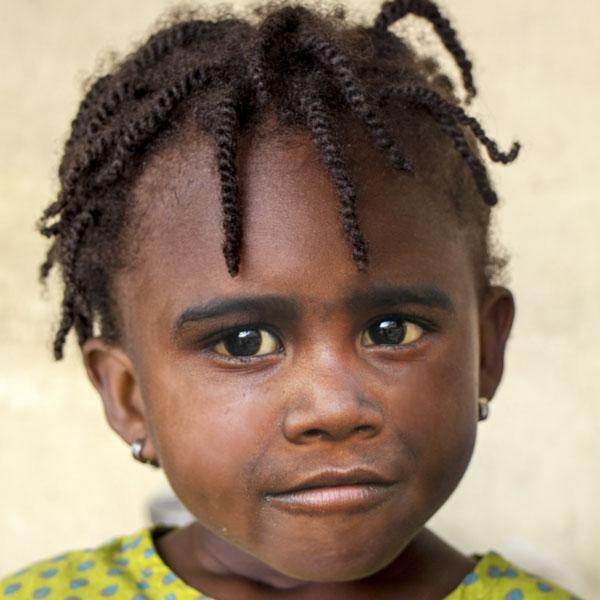Eyes: (176, 310, 301, 378), (351, 302, 450, 362)
